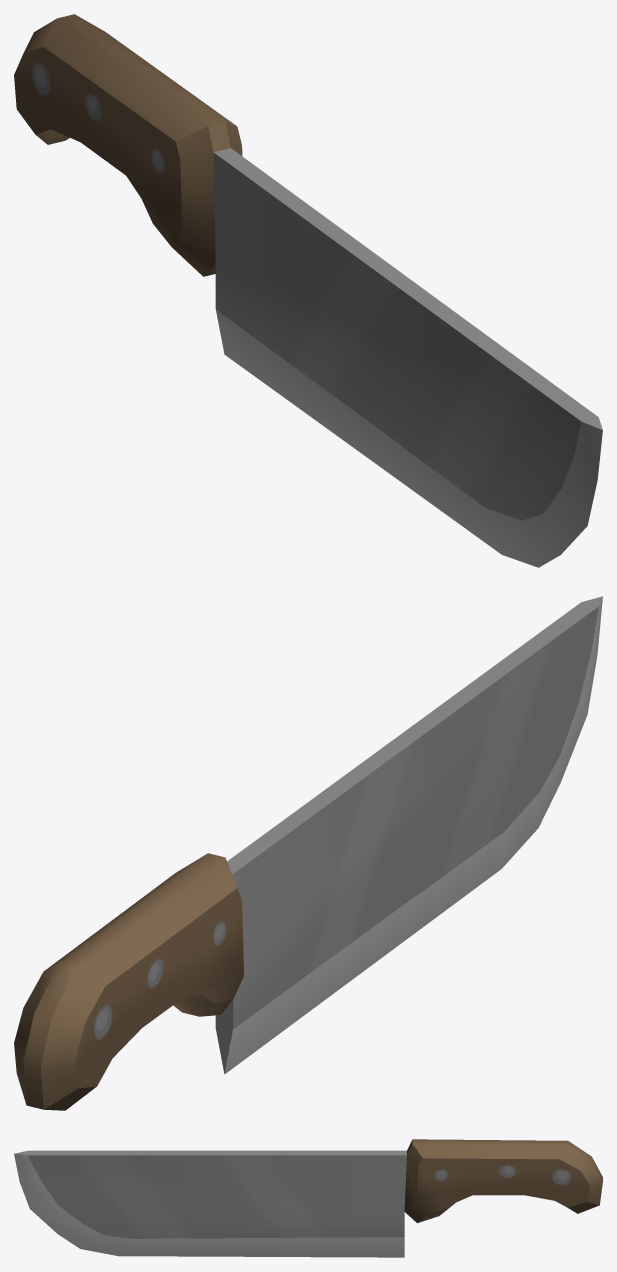
File: Cuchillo.fbx
3 views of the same model, one above another, from view 1: azimuth 30°, elevation 25°; view 2: azimuth 150°, elevation 25°; view 3: azimuth 270°, elevation 25° (orthographic). The views are drawn at different scales.
Parts seen in each view (by area): view 1: Cuchillo; view 2: Cuchillo; view 3: Cuchillo.
Boxes of the visible parts, box(x1,y1,x2,y2) form: Cuchillo: box(14, 14, 602, 567); Cuchillo: box(14, 596, 602, 1110); Cuchillo: box(14, 1139, 602, 1257).
Size of what is drawn, in the model's own units: 19.69 by 68.6 by 315.
